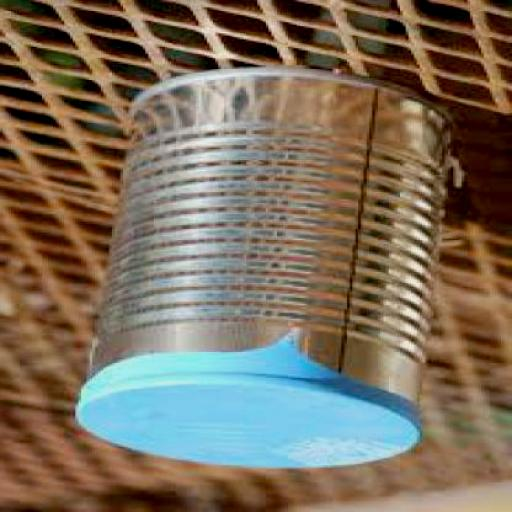metal: (78, 70, 462, 470)
